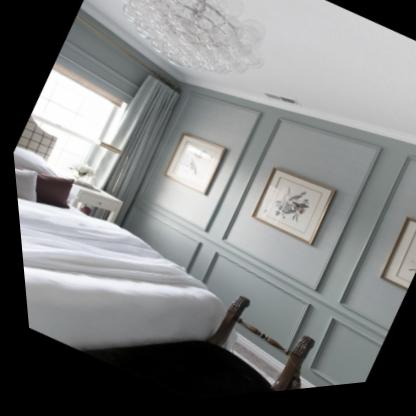Futec frame: (191, 115, 385, 364), (287, 156, 416, 394), (115, 91, 266, 277)
